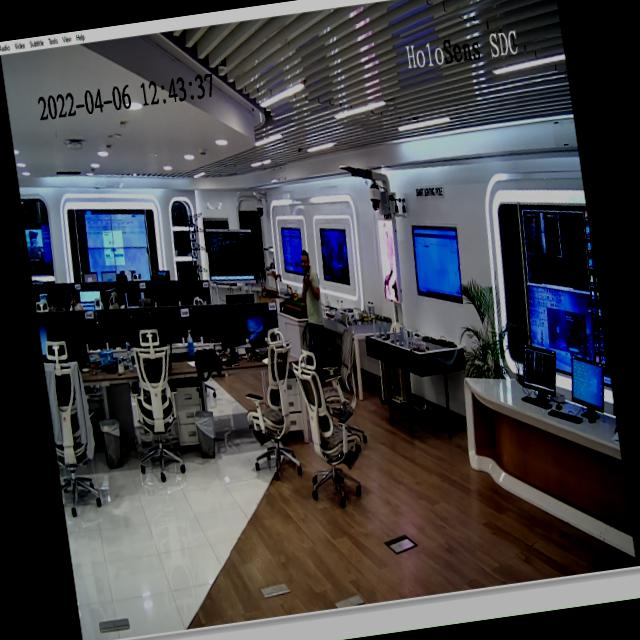long weapon: (298, 264, 314, 290)
